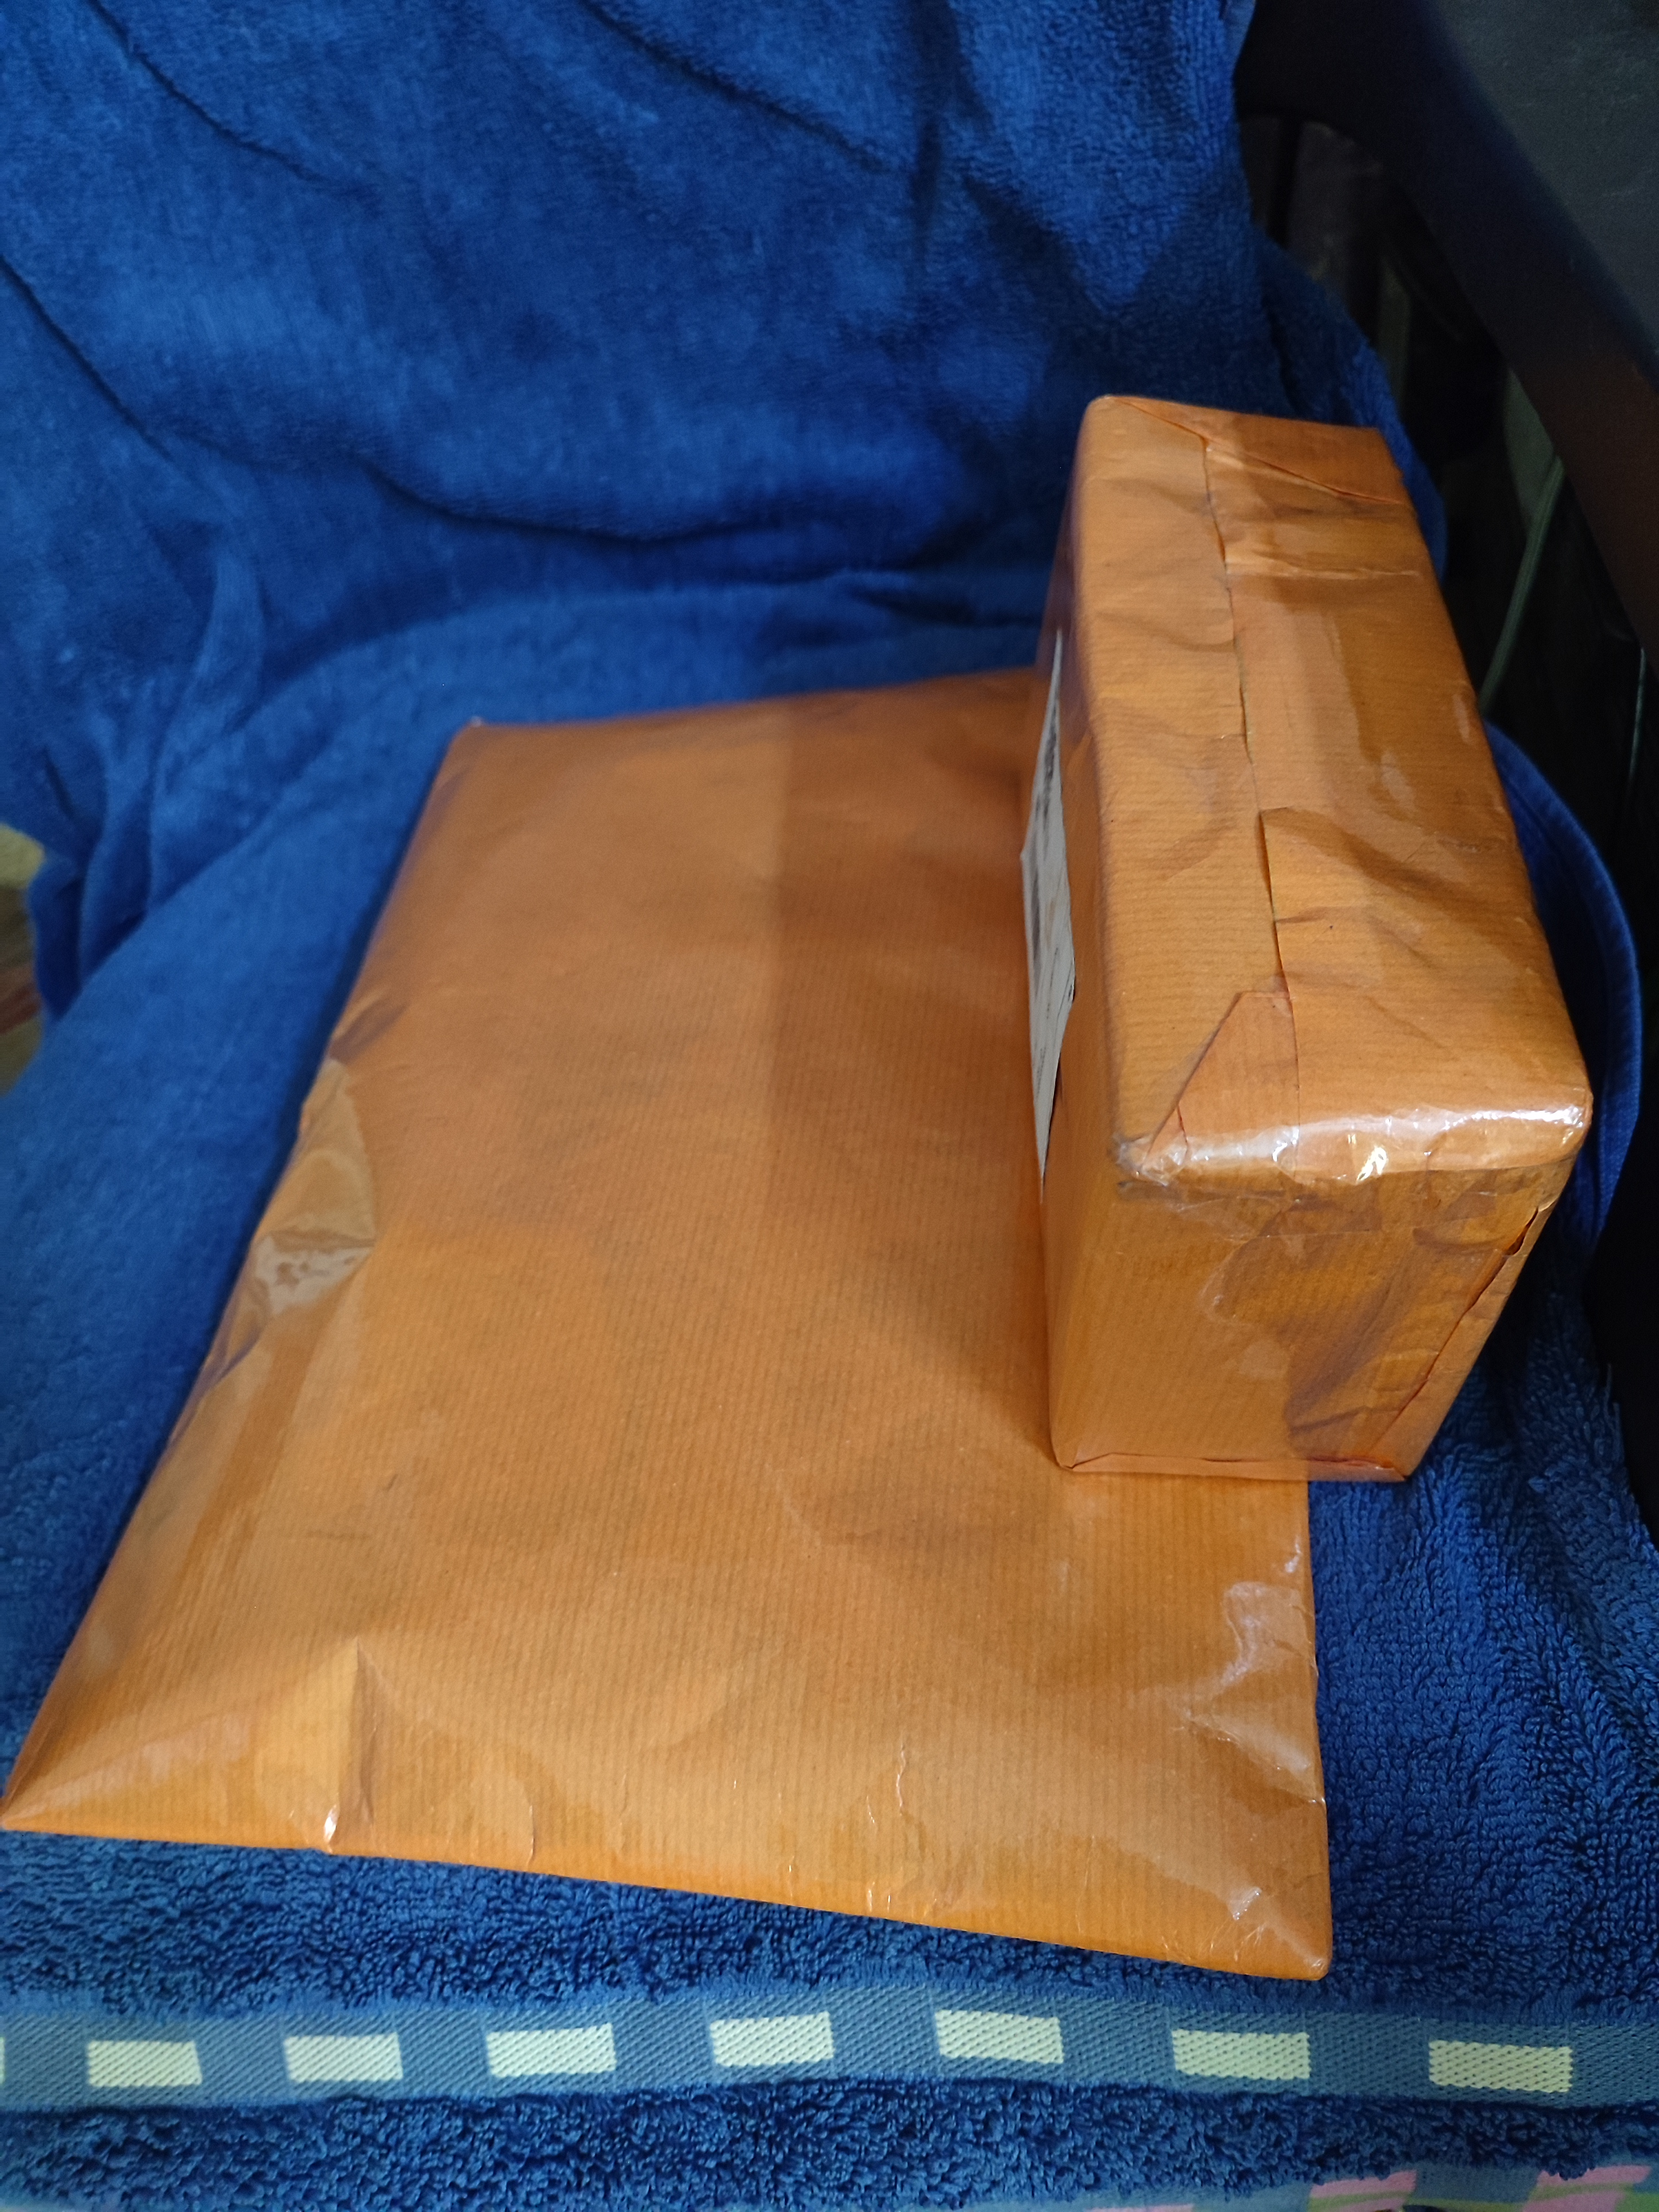Box: (125, 594, 1352, 1958), (974, 357, 1504, 1505)
